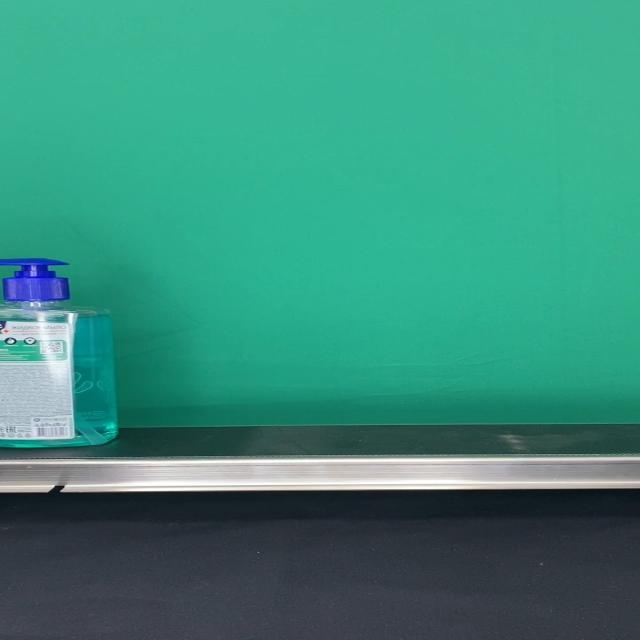Bottle: (0, 257, 118, 448)
Cap: (0, 258, 69, 301)
